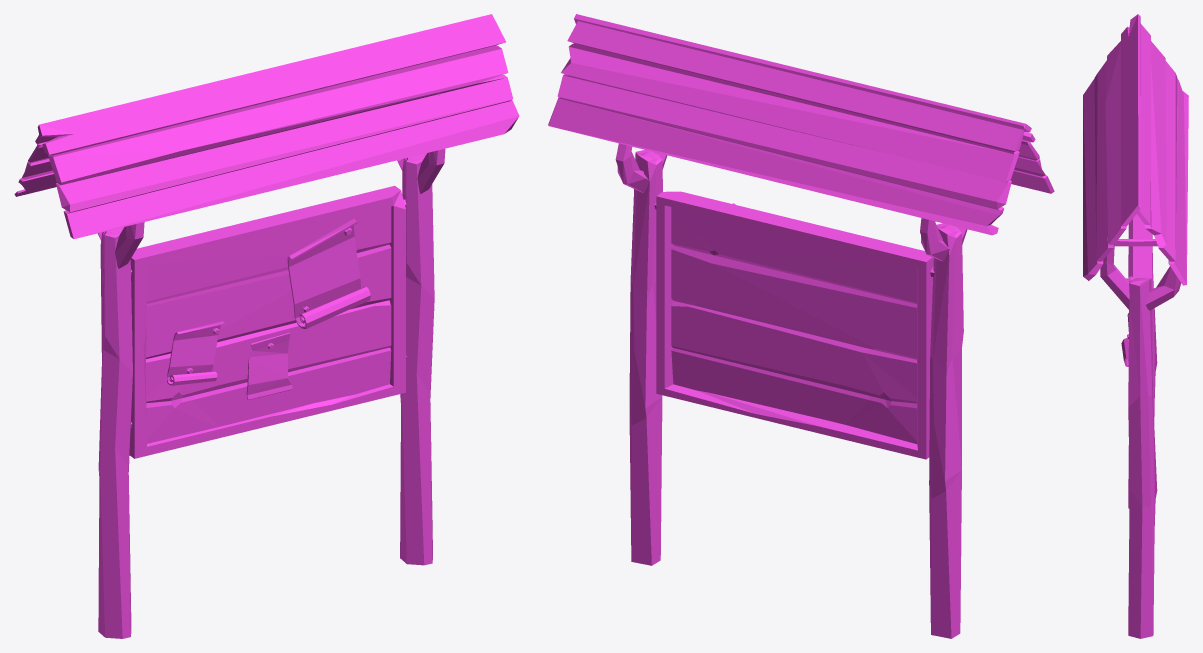
The model's file is SM_Questboard_A_Fantasy.fbx.
The picture shows the model from 3 angles, left to right: view 1: azimuth 30°, elevation 25°; view 2: azimuth 150°, elevation 25°; view 3: azimuth 270°, elevation 25°; orthographic projection. The views are drawn at different scales.
Parts seen in each view (by area): view 1: SM_Questboard_A_Fantasy; view 2: SM_Questboard_A_Fantasy; view 3: SM_Questboard_A_Fantasy.
Part boxes in pixels (left/top/right/bottom): SM_Questboard_A_Fantasy: left=14, top=14, right=519, bottom=638; SM_Questboard_A_Fantasy: left=548, top=14, right=1054, bottom=638; SM_Questboard_A_Fantasy: left=1083, top=14, right=1188, bottom=638.
Size of the model in its own units: 2.61 by 2.87 by 0.6004.
